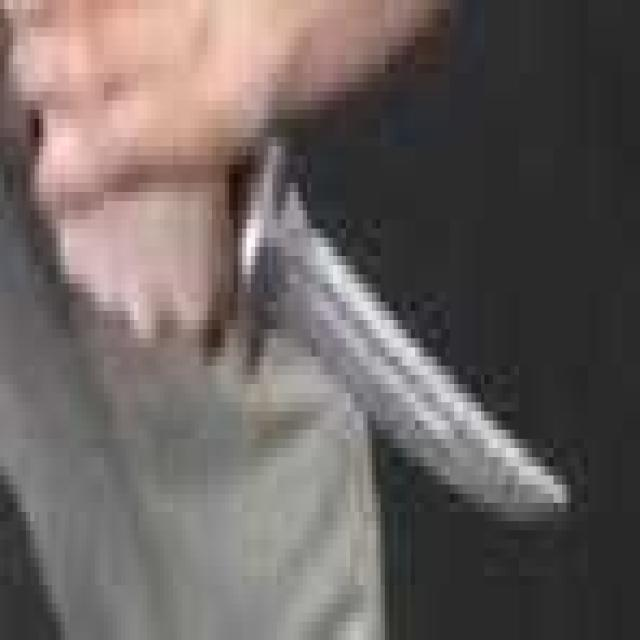Knife: (99, 68, 610, 588)
